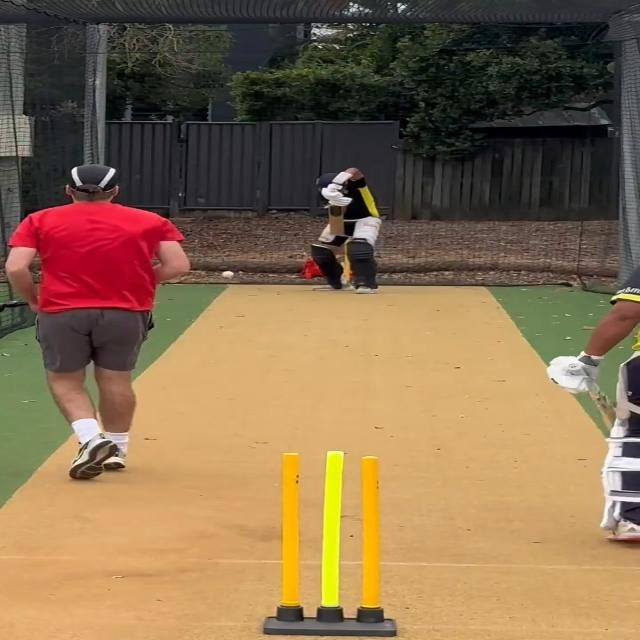ball: (220, 270, 236, 278)
stump: (263, 450, 398, 636)
